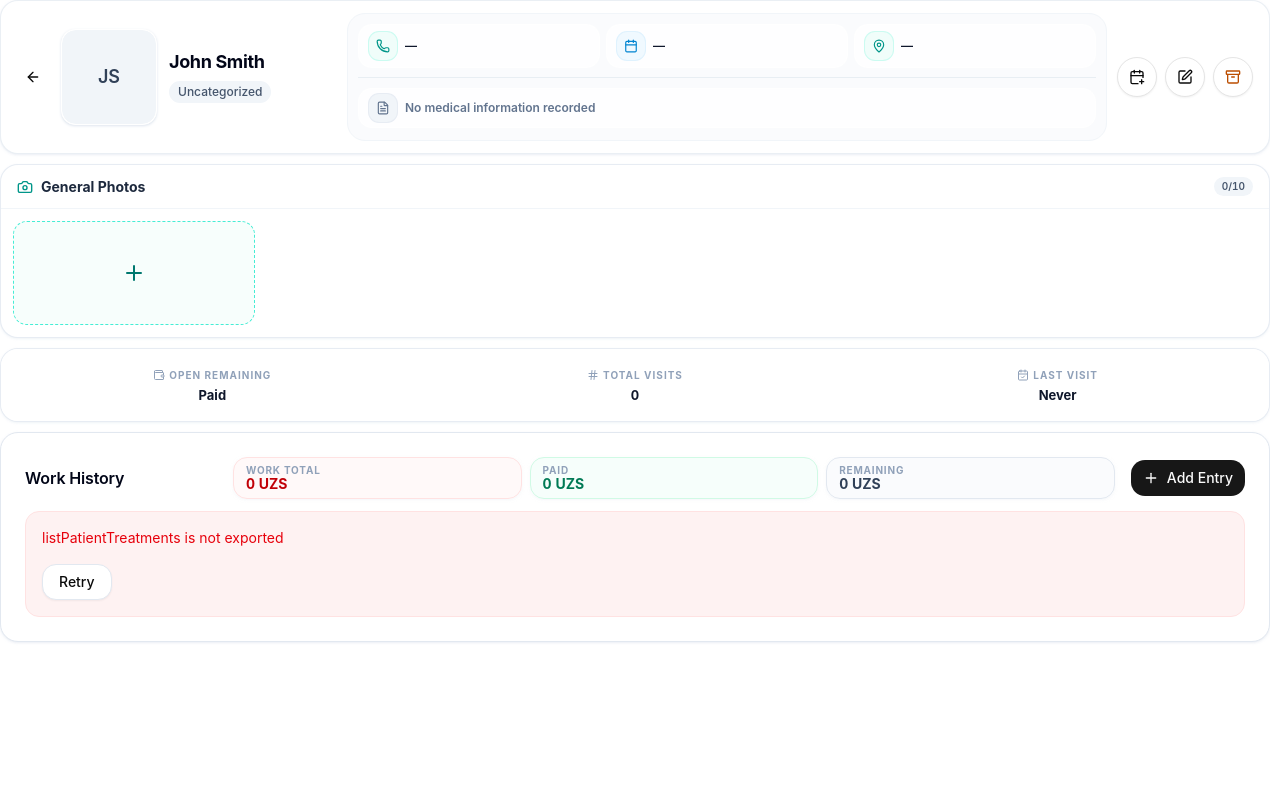
Test: PatientDetailPage › opens a read-only preview from the patient header photo
Click the button with aria-label "Patient Photo: John Smith": coordinates (109, 77) [61,29,157,125]
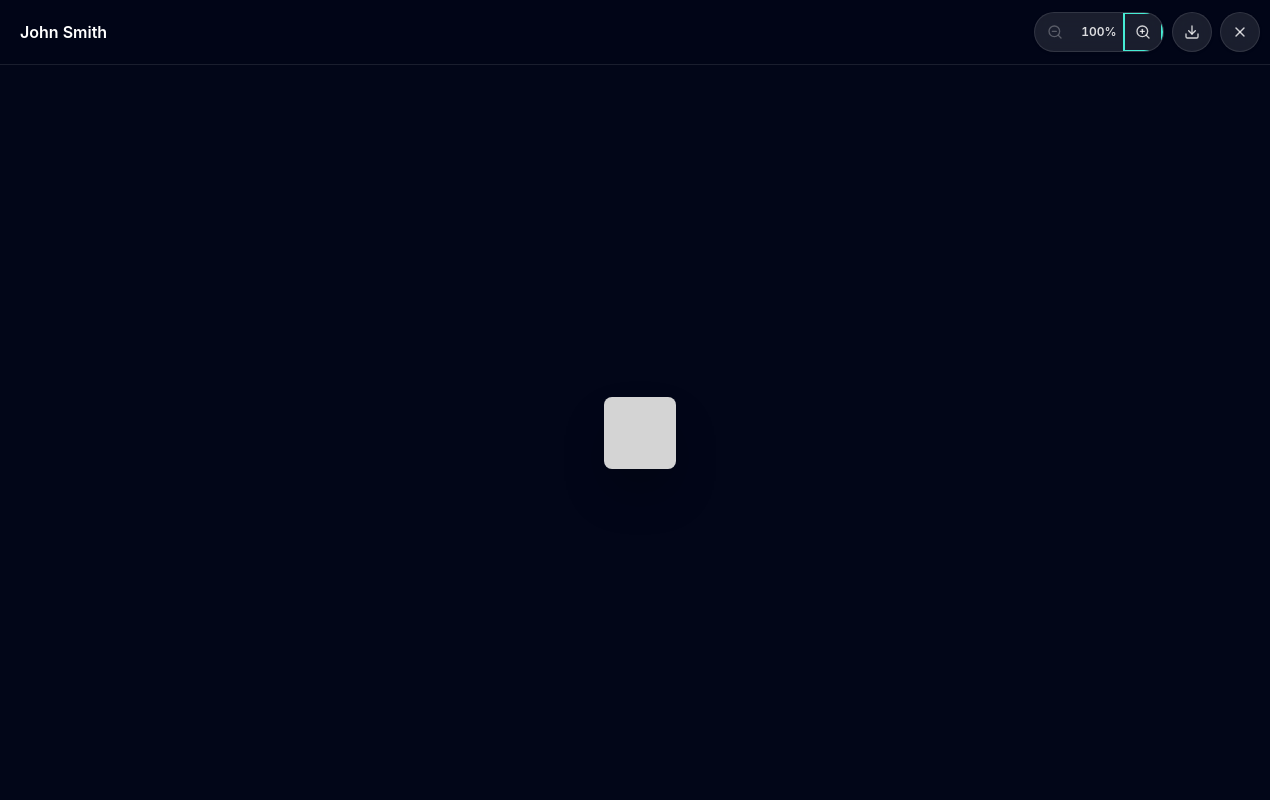
Now the dialog is shown
